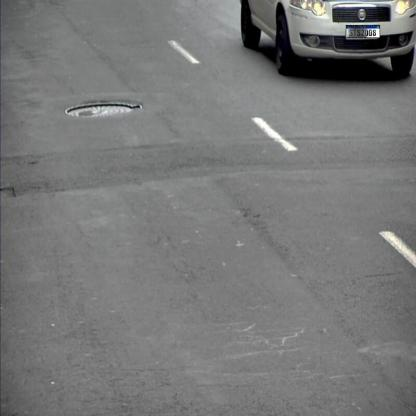PlacaM: (346, 25, 380, 38)
